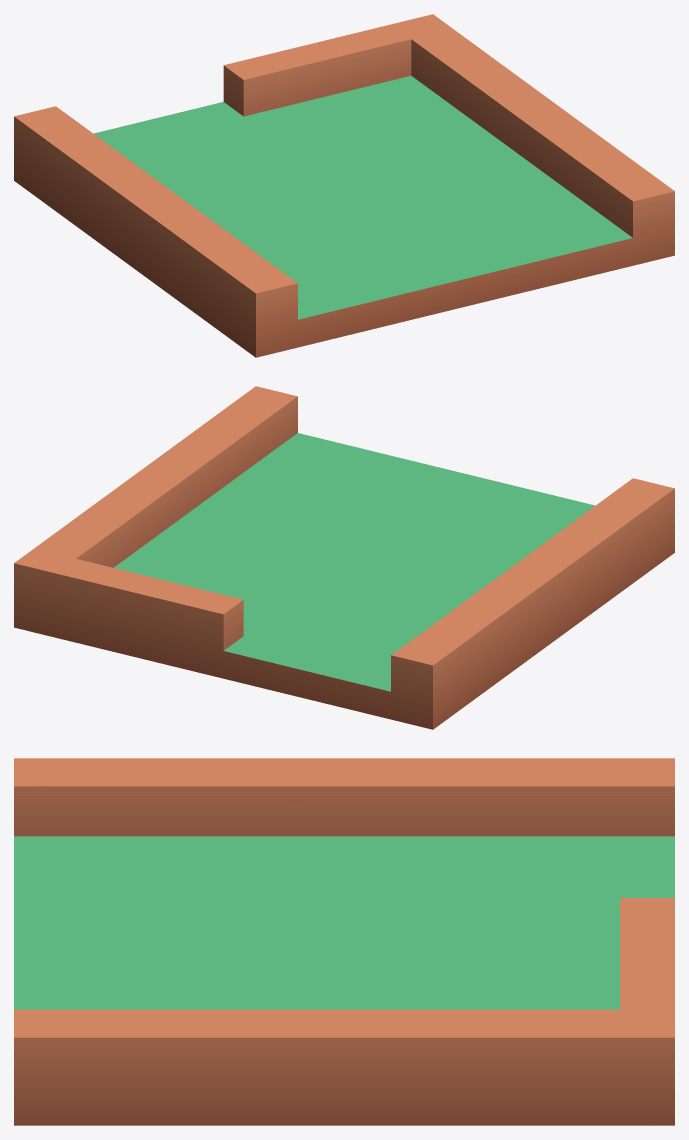
Rendered from wall-left.glb.
3 views of the same model, one above another, from view 1: azimuth 30°, elevation 25°; view 2: azimuth 150°, elevation 25°; view 3: azimuth 270°, elevation 25° (orthographic). The views are drawn at different scales.
Visible parts, largest first — view 1: wall-left; view 2: wall-left; view 3: wall-left.
Boxes of the visible parts, x1,y1,x2,y2 form: wall-left: [14, 14, 674, 357]; wall-left: [14, 386, 674, 729]; wall-left: [14, 758, 674, 1125].
Bounding box in the file's own units: 0.9999 × 0.1467 × 0.9999.
1 material, 1 textured.
